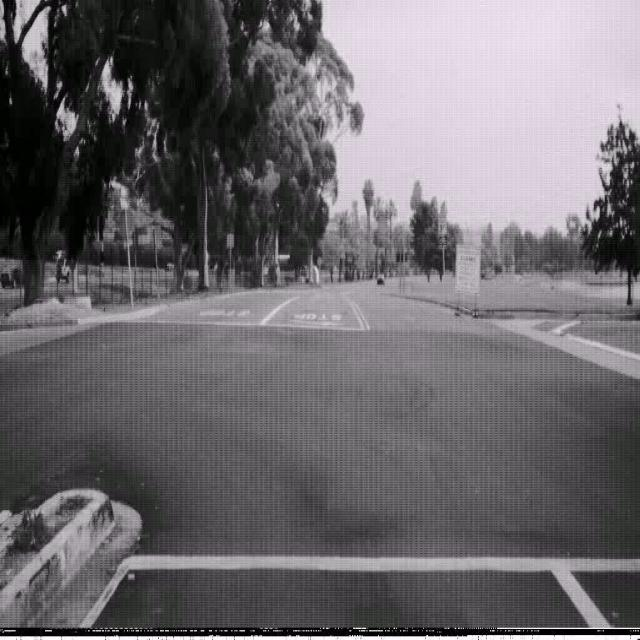speedLimit30: (437, 211, 447, 237)
